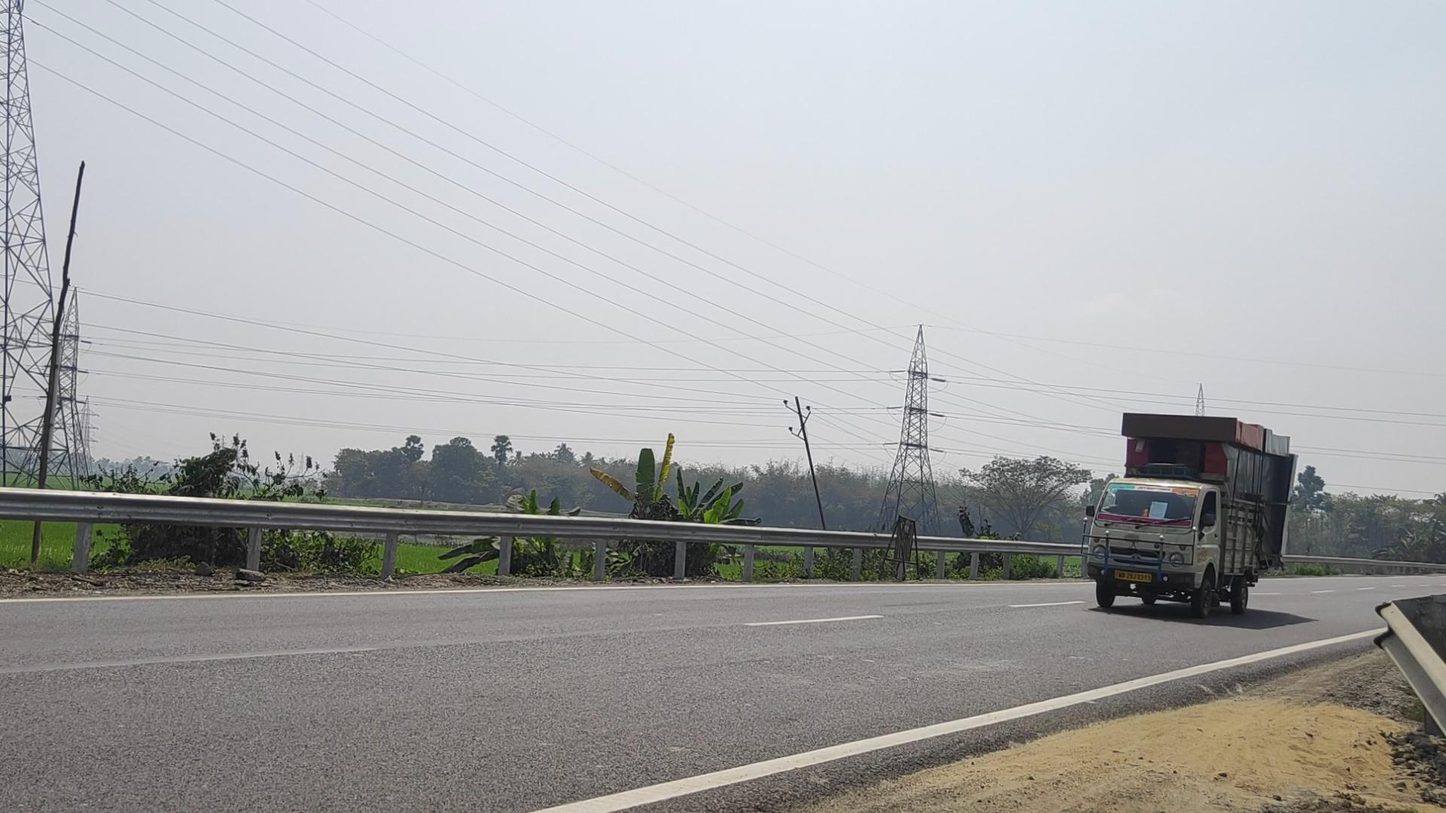van: (1081, 413, 1298, 620)
